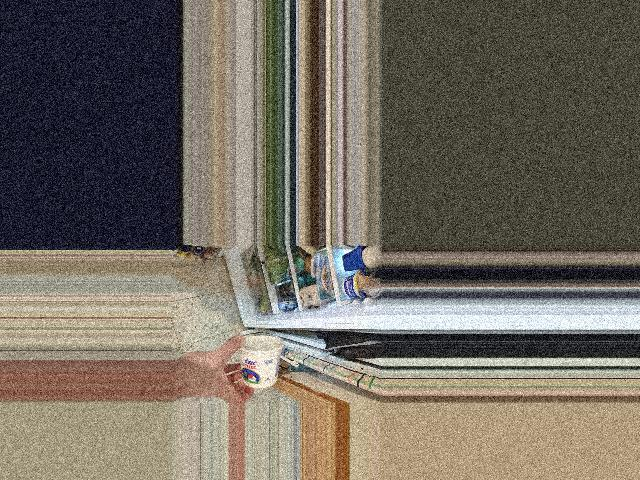cotage: (235, 337, 278, 384)
